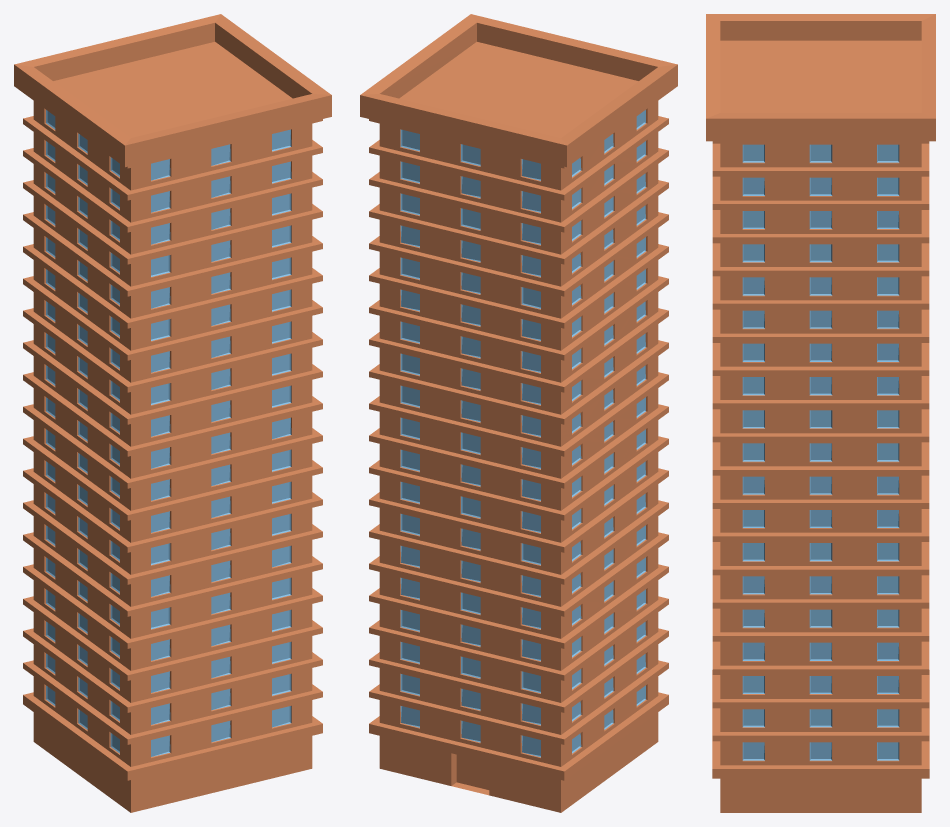
The model's file is Orange Tall.fbx.
The picture shows the model from 3 angles, left to right: view 1: azimuth 30°, elevation 25°; view 2: azimuth 150°, elevation 25°; view 3: azimuth 270°, elevation 25°; orthographic projection. The views are drawn at different scales.
Parts seen in each view (by area): view 1: Orange Tall; view 2: Orange Tall; view 3: Orange Tall.
Boxes of the visible parts, x1=… form: Orange Tall: x1=14, y1=14, x2=331, y2=812; Orange Tall: x1=360, y1=14, x2=677, y2=812; Orange Tall: x1=706, y1=14, x2=935, y2=812.
Size of the model in its own units: 9.84 by 30.69 by 9.12.
